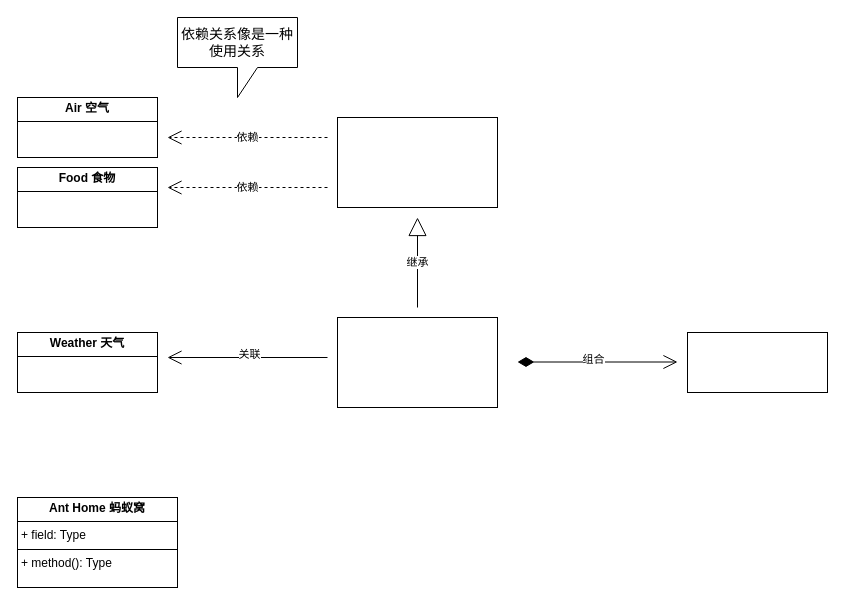
This 845x605 diagram has some shape labels left out. The centre of each missing label's shape, as x and y in pixels:
"Animal 动物 - age: int + sleep(): int" goes at point 417,162.
"Ant 蚂蚁 - age: int + sleep(): int" goes at point 417,362.
"Eye 眼睛" goes at point 757,362.
